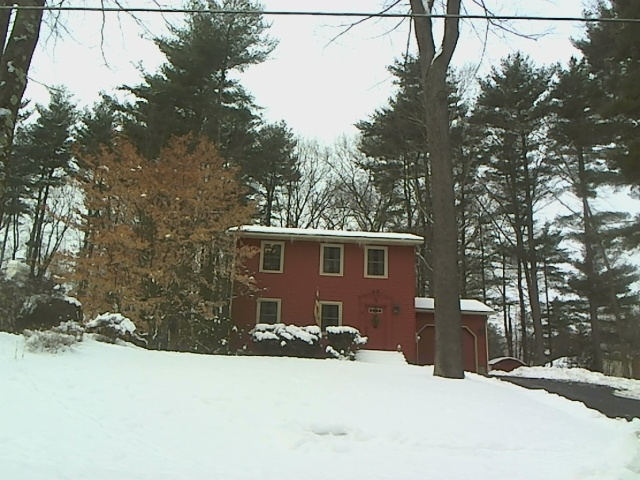Ploughed: (478, 364, 633, 413)
